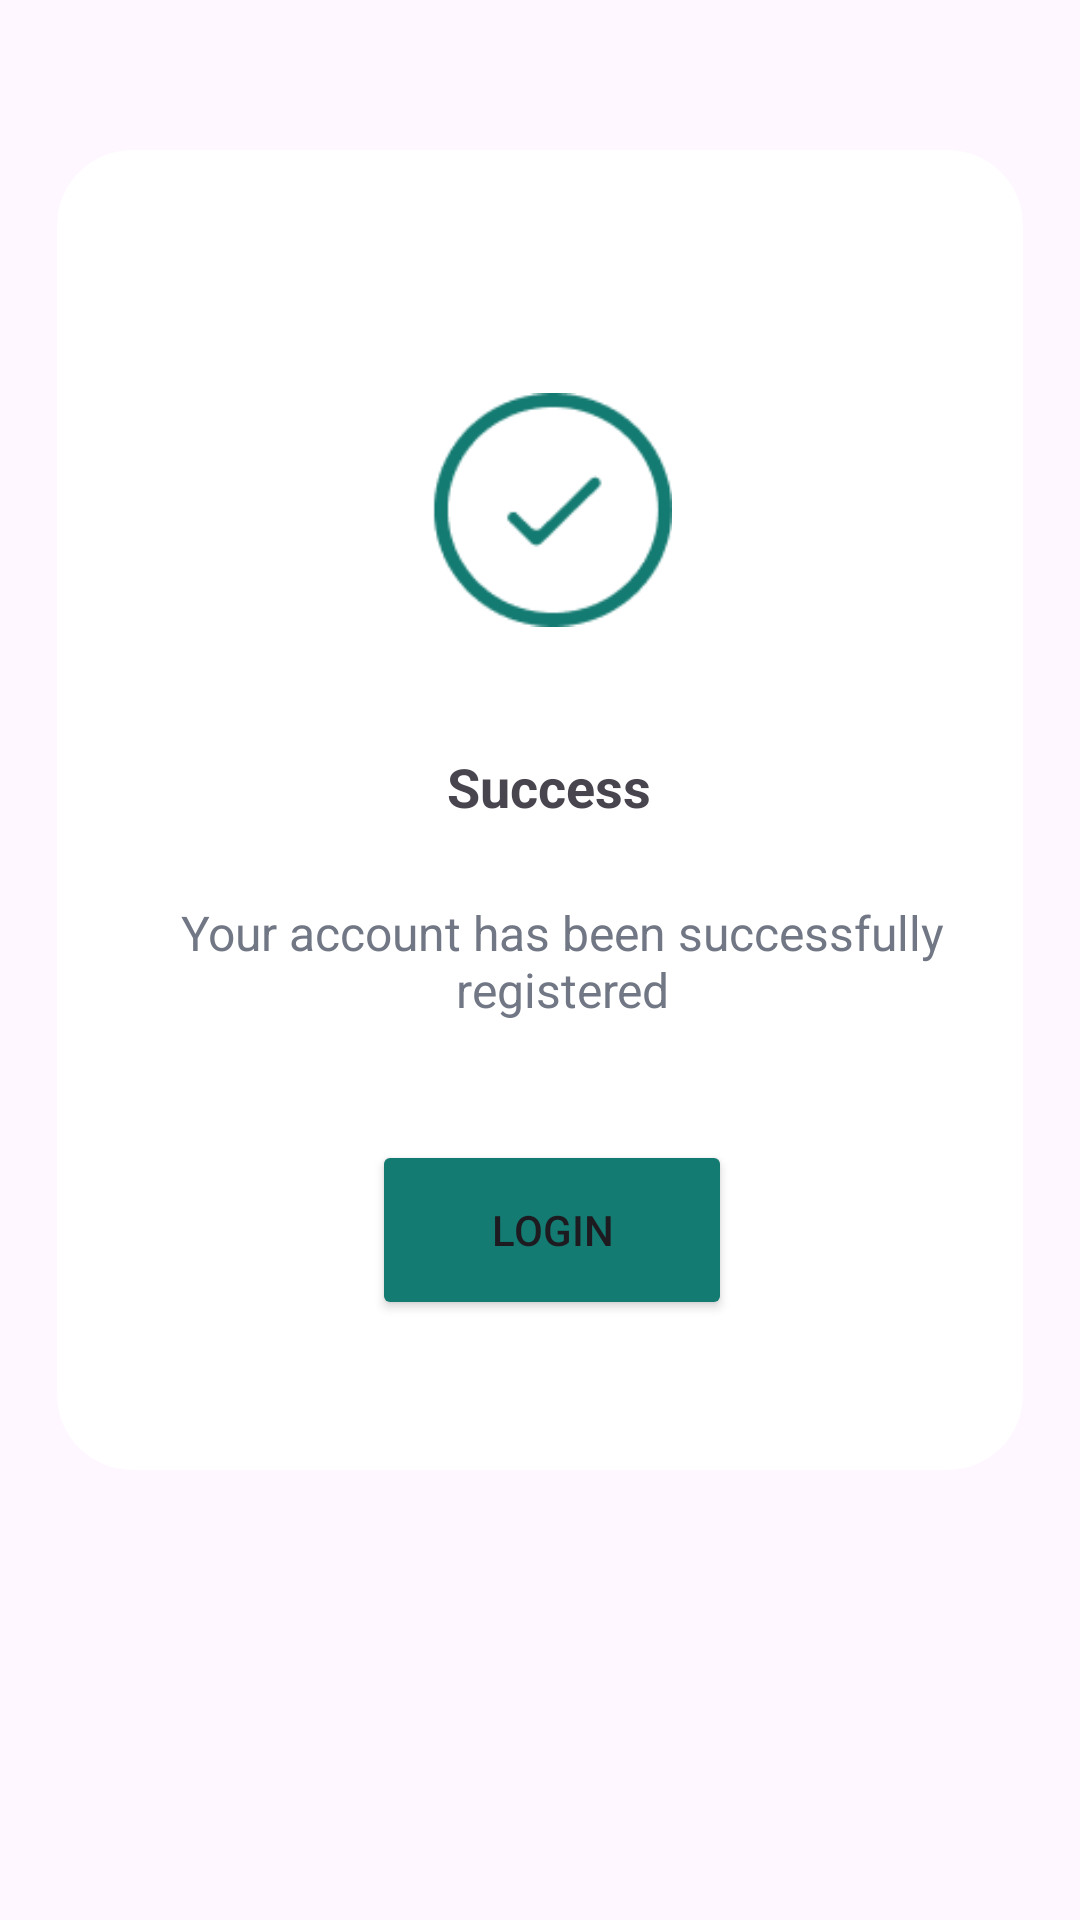

Icon click points for this 1080×1920 phone screenshot, format point (x, y):
right tick: point (552, 510)
